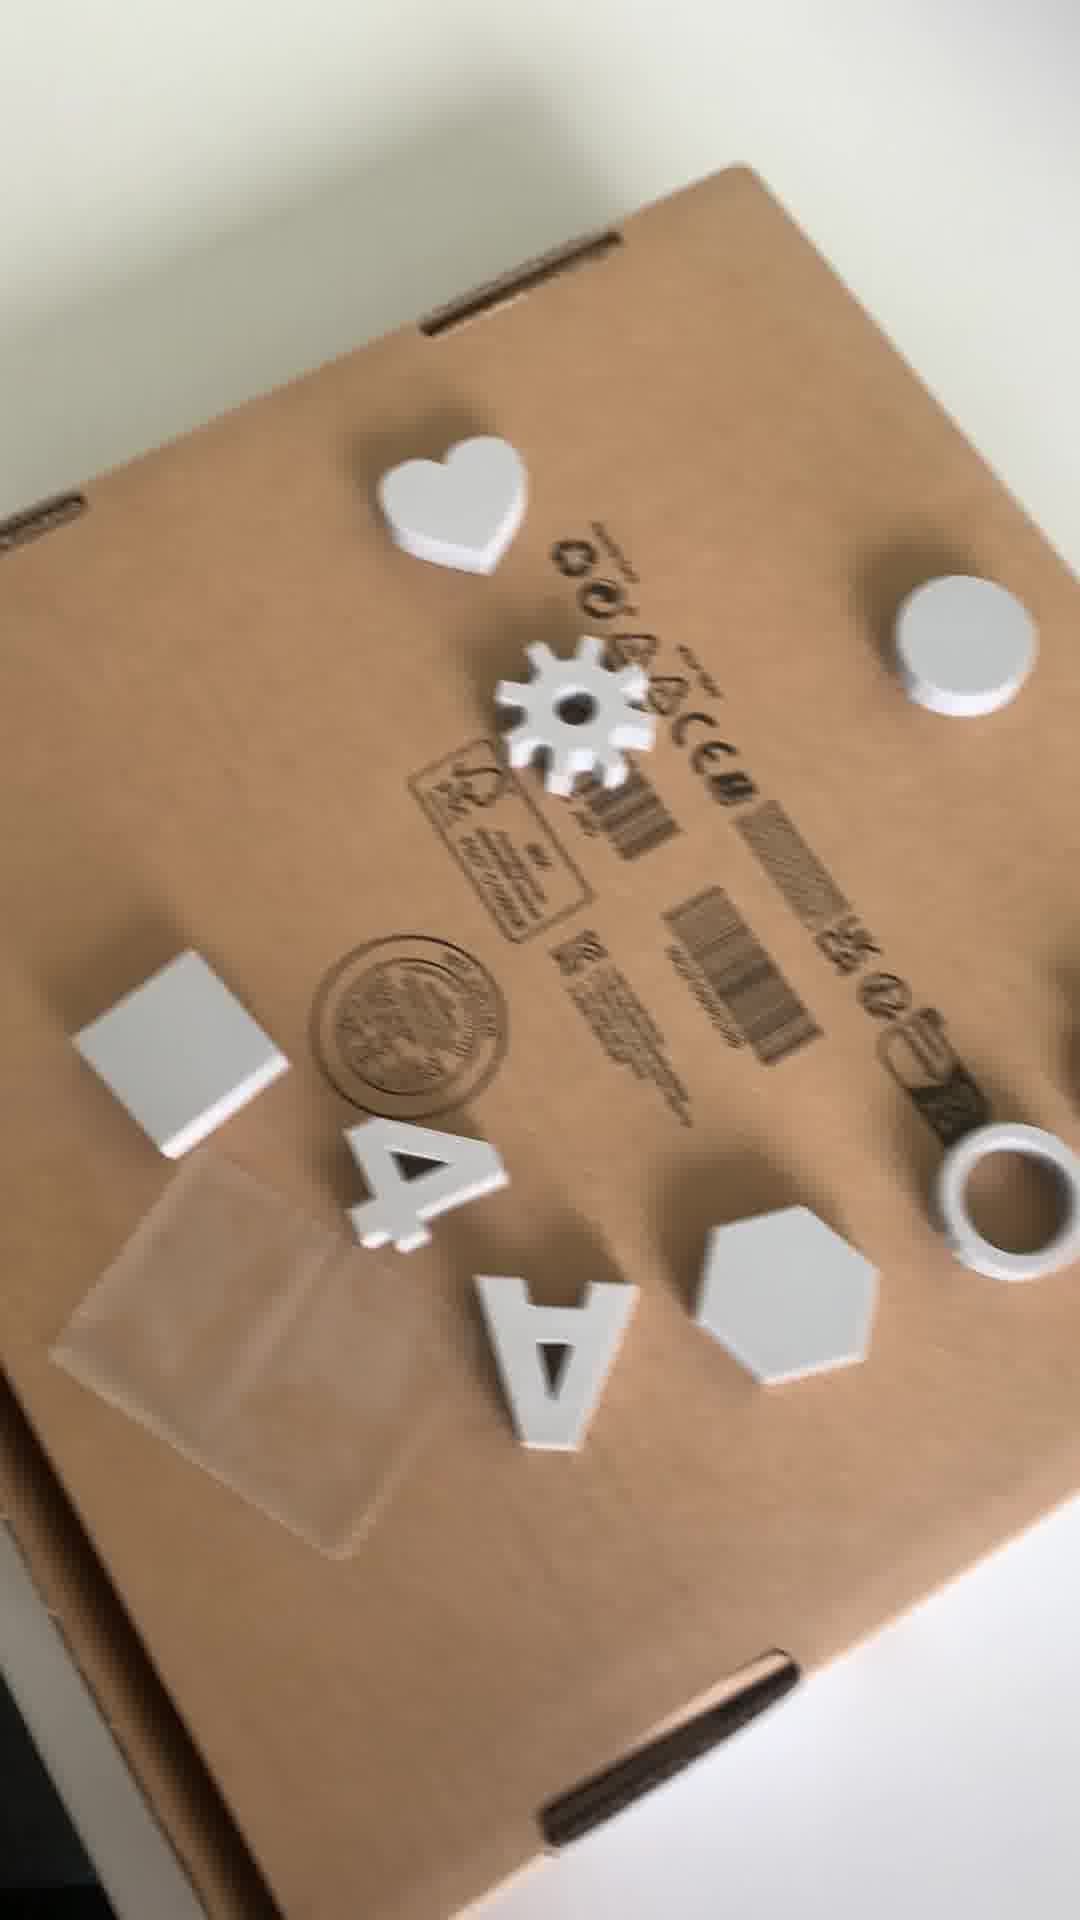Gray A-letter: (460, 1279, 649, 1465)
Gray circle: (885, 568, 1040, 712)
Gray four: (342, 1106, 504, 1263)
Gray gear: (492, 634, 647, 789)
Gray heart: (368, 434, 531, 579)
Gray hexagon: (680, 1197, 880, 1396)
Gray ring: (935, 1126, 1080, 1280)
Gray square: (74, 945, 306, 1164)
